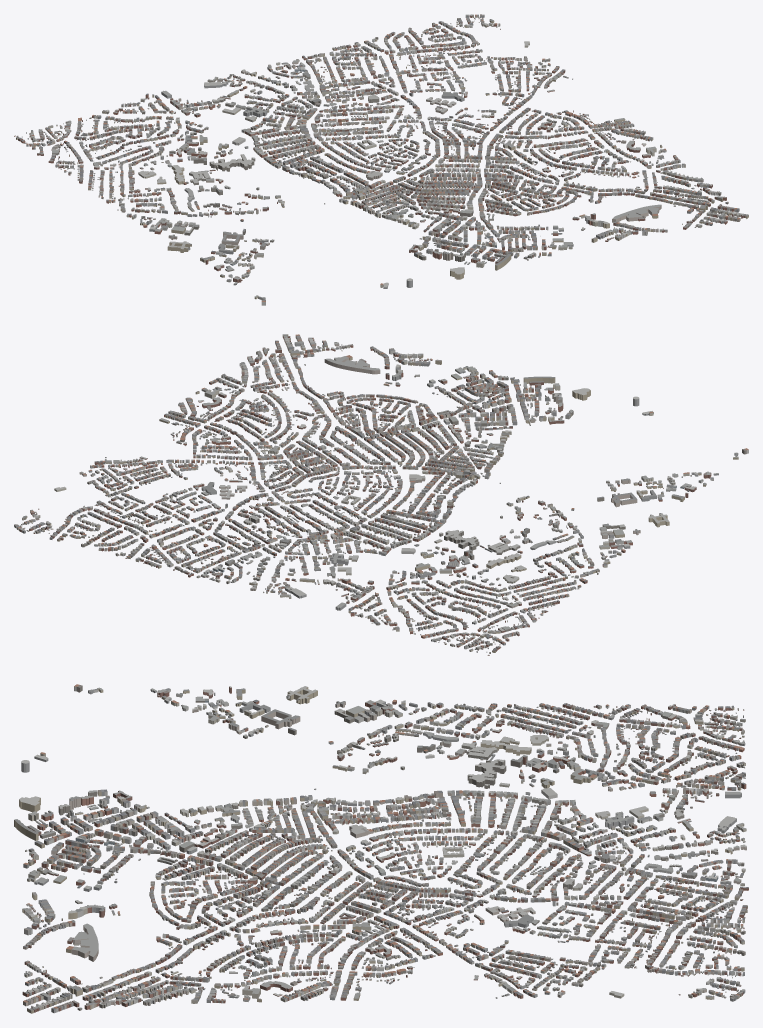
Rendered from buildings_b0_1_3.glb.
3 renders of one model, top to bottom at view 1: azimuth 30°, elevation 25°; view 2: azimuth 150°, elevation 25°; view 3: azimuth 270°, elevation 25°, orthographic. The views are drawn at different scales.
Visible parts, largest first — view 1: t06_13_buildings_b0, t07_13_buildings_b0, t06_14_buildings_b0, t06_15_buildings_b0, t05_14_buildings_b0, t04_15_buildings_b0, t07_12_buildings_b0, t06_12_buildings_b0, t07_15_buildings_b0, t05_15_buildings_b0, t05_13_buildings_b0, t04_14_buildings_b0 (+3 smaller); view 2: t06_13_buildings_b0, t06_15_buildings_b0, t04_15_buildings_b0, t06_14_buildings_b0, t05_14_buildings_b0, t07_13_buildings_b0, t07_15_buildings_b0, t06_12_buildings_b0, t04_14_buildings_b0, t05_15_buildings_b0, t07_12_buildings_b0, t05_13_buildings_b0 (+3 smaller); view 3: t06_13_buildings_b0, t06_15_buildings_b0, t06_14_buildings_b0, t07_13_buildings_b0, t05_14_buildings_b0, t04_15_buildings_b0, t06_12_buildings_b0, t07_12_buildings_b0, t07_15_buildings_b0, t04_14_buildings_b0, t05_15_buildings_b0, t05_13_buildings_b0 (+4 smaller).
Part boxes in pixels (x1,y1,x2,y2): t06_13_buildings_b0: [381, 139, 563, 209]; t07_13_buildings_b0: [498, 116, 680, 191]; t06_14_buildings_b0: [314, 85, 497, 164]; t06_15_buildings_b0: [250, 42, 421, 116]; t05_14_buildings_b0: [209, 118, 380, 190]; t04_15_buildings_b0: [14, 102, 198, 183]; t07_12_buildings_b0: [569, 163, 748, 235]; t06_12_buildings_b0: [449, 189, 630, 260]; t07_15_buildings_b0: [364, 14, 529, 85]; t05_15_buildings_b0: [131, 69, 311, 144]; t05_13_buildings_b0: [275, 164, 460, 223]; t04_14_buildings_b0: [88, 147, 250, 227]; t06_13_buildings_b0: [272, 407, 450, 481]; t06_15_buildings_b0: [135, 505, 316, 585]; t04_15_buildings_b0: [371, 566, 559, 655]; t06_14_buildings_b0: [198, 456, 386, 535]; t05_14_buildings_b0: [321, 482, 502, 558]; t07_13_buildings_b0: [159, 377, 337, 456]; t07_15_buildings_b0: [14, 478, 198, 558]; t06_12_buildings_b0: [339, 353, 519, 428]; t04_14_buildings_b0: [441, 515, 625, 600]; t05_15_buildings_b0: [250, 534, 435, 621]; t07_12_buildings_b0: [221, 334, 401, 408]; t05_13_buildings_b0: [388, 424, 529, 506]; t06_13_buildings_b0: [202, 838, 387, 927]; t06_15_buildings_b0: [563, 843, 748, 923]; t06_14_buildings_b0: [376, 842, 566, 925]; t07_13_buildings_b0: [204, 922, 391, 1003]; t05_14_buildings_b0: [383, 759, 566, 848]; t04_15_buildings_b0: [562, 703, 745, 779]; t06_12_buildings_b0: [22, 836, 209, 926]; t07_12_buildings_b0: [22, 920, 207, 1013]; t07_15_buildings_b0: [562, 916, 745, 1001]; t04_14_buildings_b0: [381, 699, 569, 773]; t05_15_buildings_b0: [563, 769, 746, 851]; t05_13_buildings_b0: [194, 765, 387, 848].
Size of the model in its own units: 2058 by 94.48 by 2044.
